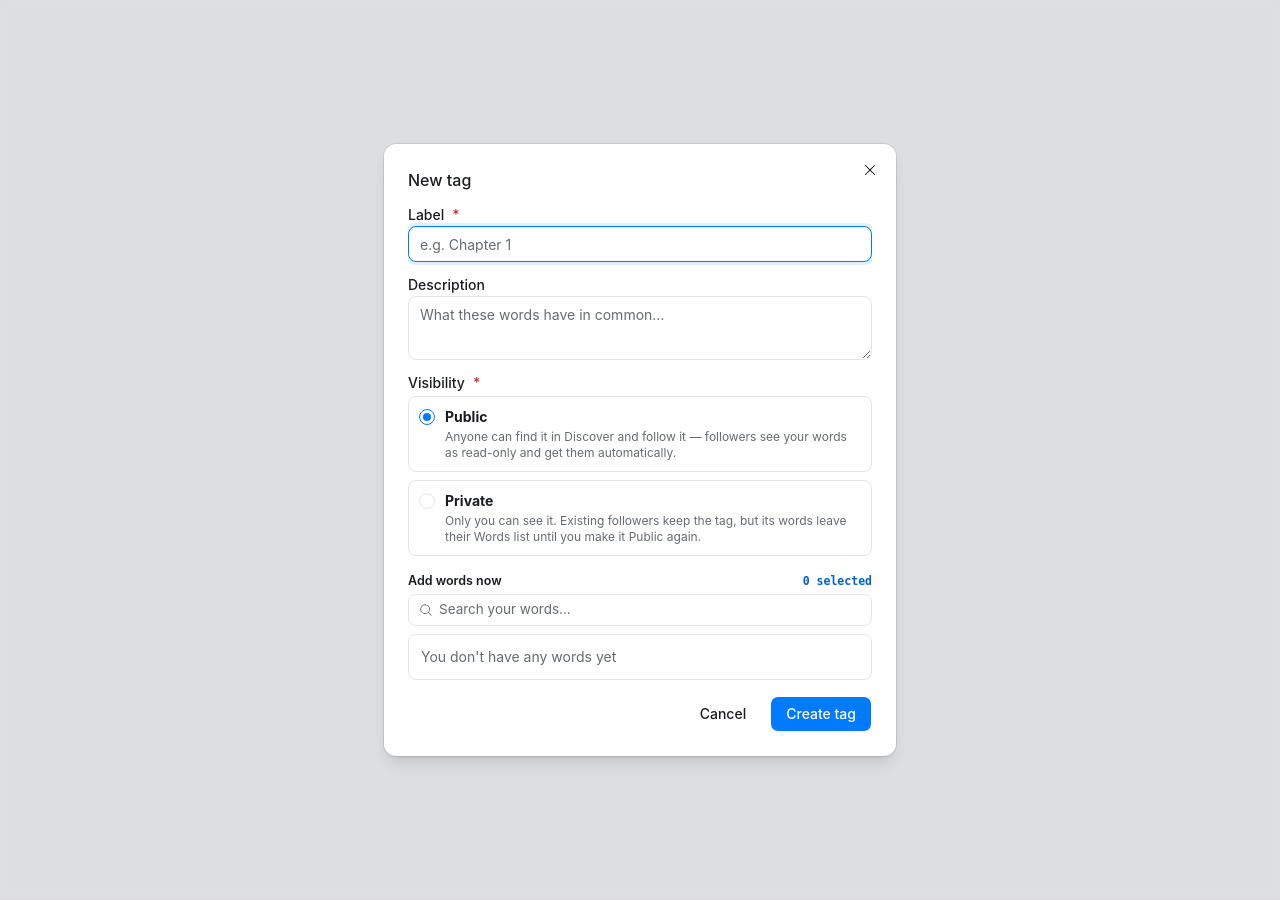
Test: TagFormDialog — create › shows an inline error and does not submit when the label is blank
The image size is (1280, 900).
Click the button "Create tag" at (821, 714), box [770,696,872,732]
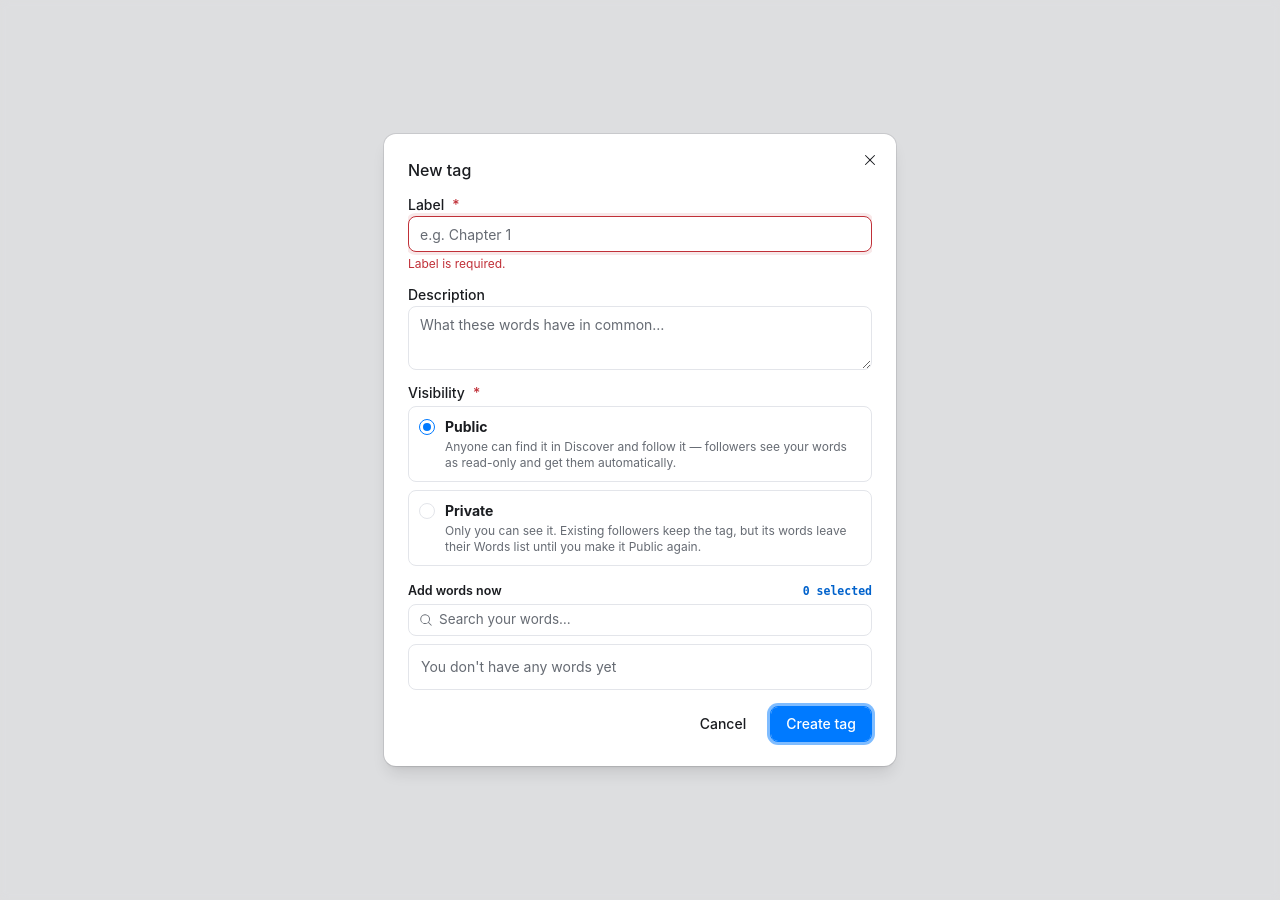
Check: the text "Label is required." is shown, box [408,256,506,271]
